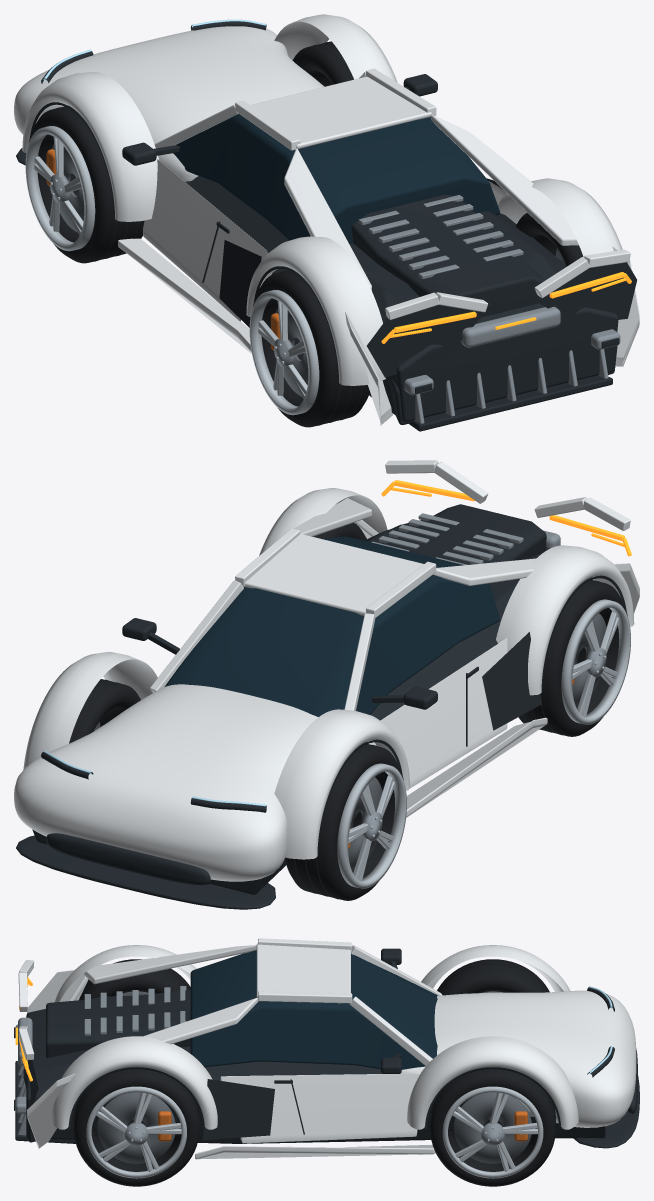
File: Cloudline_C02.fbx
3 renders of one model, top to bottom at view 1: azimuth 30°, elevation 25°; view 2: azimuth 150°, elevation 25°; view 3: azimuth 270°, elevation 25°, orthographic. The views are drawn at different scales.
Parts seen in each view (by area): view 1: Canopy glass, Carbon monocoque, Full rounded front, Rear engine spine, Front sculpted fender -1, Rear sculpted fender -1, Door skin -1, Floating white roof, Rear tire -1, Front tire -1, Flying buttress.001, Recessed tail pocket -1 (+24 smaller); view 2: Full rounded front, Canopy glass, Front sculpted fender -1, Floating white roof, Door skin -1, Rear sculpted fender -1, Front tire -1, Front sculpted fender 1, Rear tire -1, Rounded front lip, Rear engine spine, Carbon monocoque (+19 smaller); view 3: Canopy glass, Full rounded front, Door skin 1, Carbon monocoque, Front sculpted fender 1, Rear sculpted fender 1, Rear tire 1, Front tire 1, Rear engine spine, Floating white roof, Side intake 1, Front tire -1 (+23 smaller).
Boxes of the visible parts, left/top/right/bottom form: Canopy glass: left=173, top=114, right=499, bottom=244; Carbon monocoque: left=185, top=176, right=618, bottom=421; Full rounded front: left=14, top=26, right=324, bottom=181; Rear engine spine: left=351, top=194, right=544, bottom=317; Front sculpted fender -1: left=22, top=72, right=158, bottom=221; Rear sculpted fender -1: left=246, top=236, right=385, bottom=385; Door skin -1: left=143, top=159, right=267, bottom=321; Floating white roof: left=251, top=76, right=431, bottom=148; Rear tire -1: left=253, top=269, right=369, bottom=427; Front tire -1: left=29, top=105, right=144, bottom=263; Flying buttress.001: left=431, top=115, right=578, bottom=245; Recessed tail pocket -1: left=367, top=305, right=486, bottom=377; Full rounded front: left=14, top=684, right=318, bottom=881; Canopy glass: left=164, top=536, right=499, bottom=716; Front sculpted fender -1: left=274, top=709, right=409, bottom=859; Floating white roof: left=244, top=534, right=423, bottom=615; Door skin -1: left=367, top=638, right=507, bottom=788; Rear sculpted fender -1: left=496, top=545, right=634, bottom=695; Front tire -1: left=285, top=743, right=403, bottom=900; Front sculpted fender 1: left=23, top=652, right=157, bottom=769; Rear tire -1: left=518, top=579, right=627, bottom=736; Rounded front lip: left=16, top=835, right=275, bottom=909; Rear engine spine: left=382, top=504, right=546, bottom=564; Carbon monocoque: left=32, top=520, right=591, bottom=894; Canopy glass: left=190, top=950, right=437, bottom=1069; Full rounded front: left=401, top=990, right=636, bottom=1127; Door skin 1: left=220, top=1073, right=420, bottom=1143; Carbon monocoque: left=26, top=996, right=605, bottom=1143; Front sculpted fender 1: left=407, top=1036, right=578, bottom=1129; Rear sculpted fender 1: left=51, top=1036, right=217, bottom=1129; Rear tire 1: left=74, top=1067, right=199, bottom=1186; Front tire 1: left=430, top=1067, right=555, bottom=1186; Rear engine spine: left=46, top=989, right=190, bottom=1057; Floating white roof: left=256, top=943, right=350, bottom=997; Side intake 1: left=203, top=1079, right=274, bottom=1140; Front tire -1: left=437, top=959, right=549, bottom=995.
Size of the model in its own units: 241 by 148 by 511.
